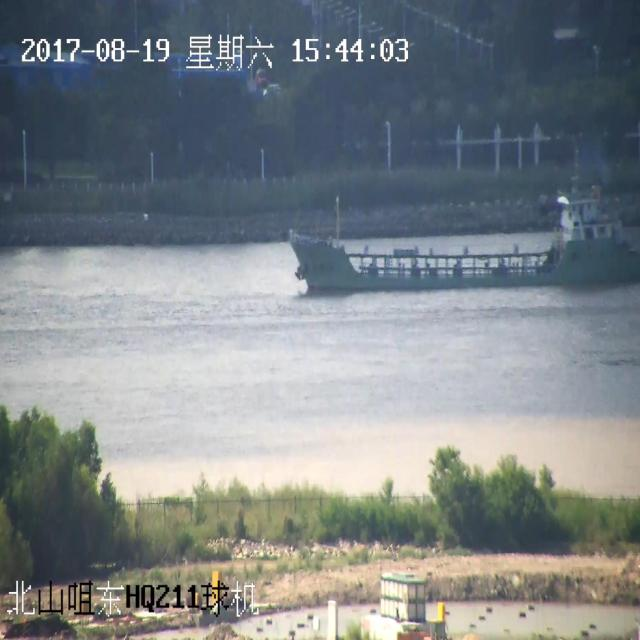houseboat: (204, 156, 639, 312)
